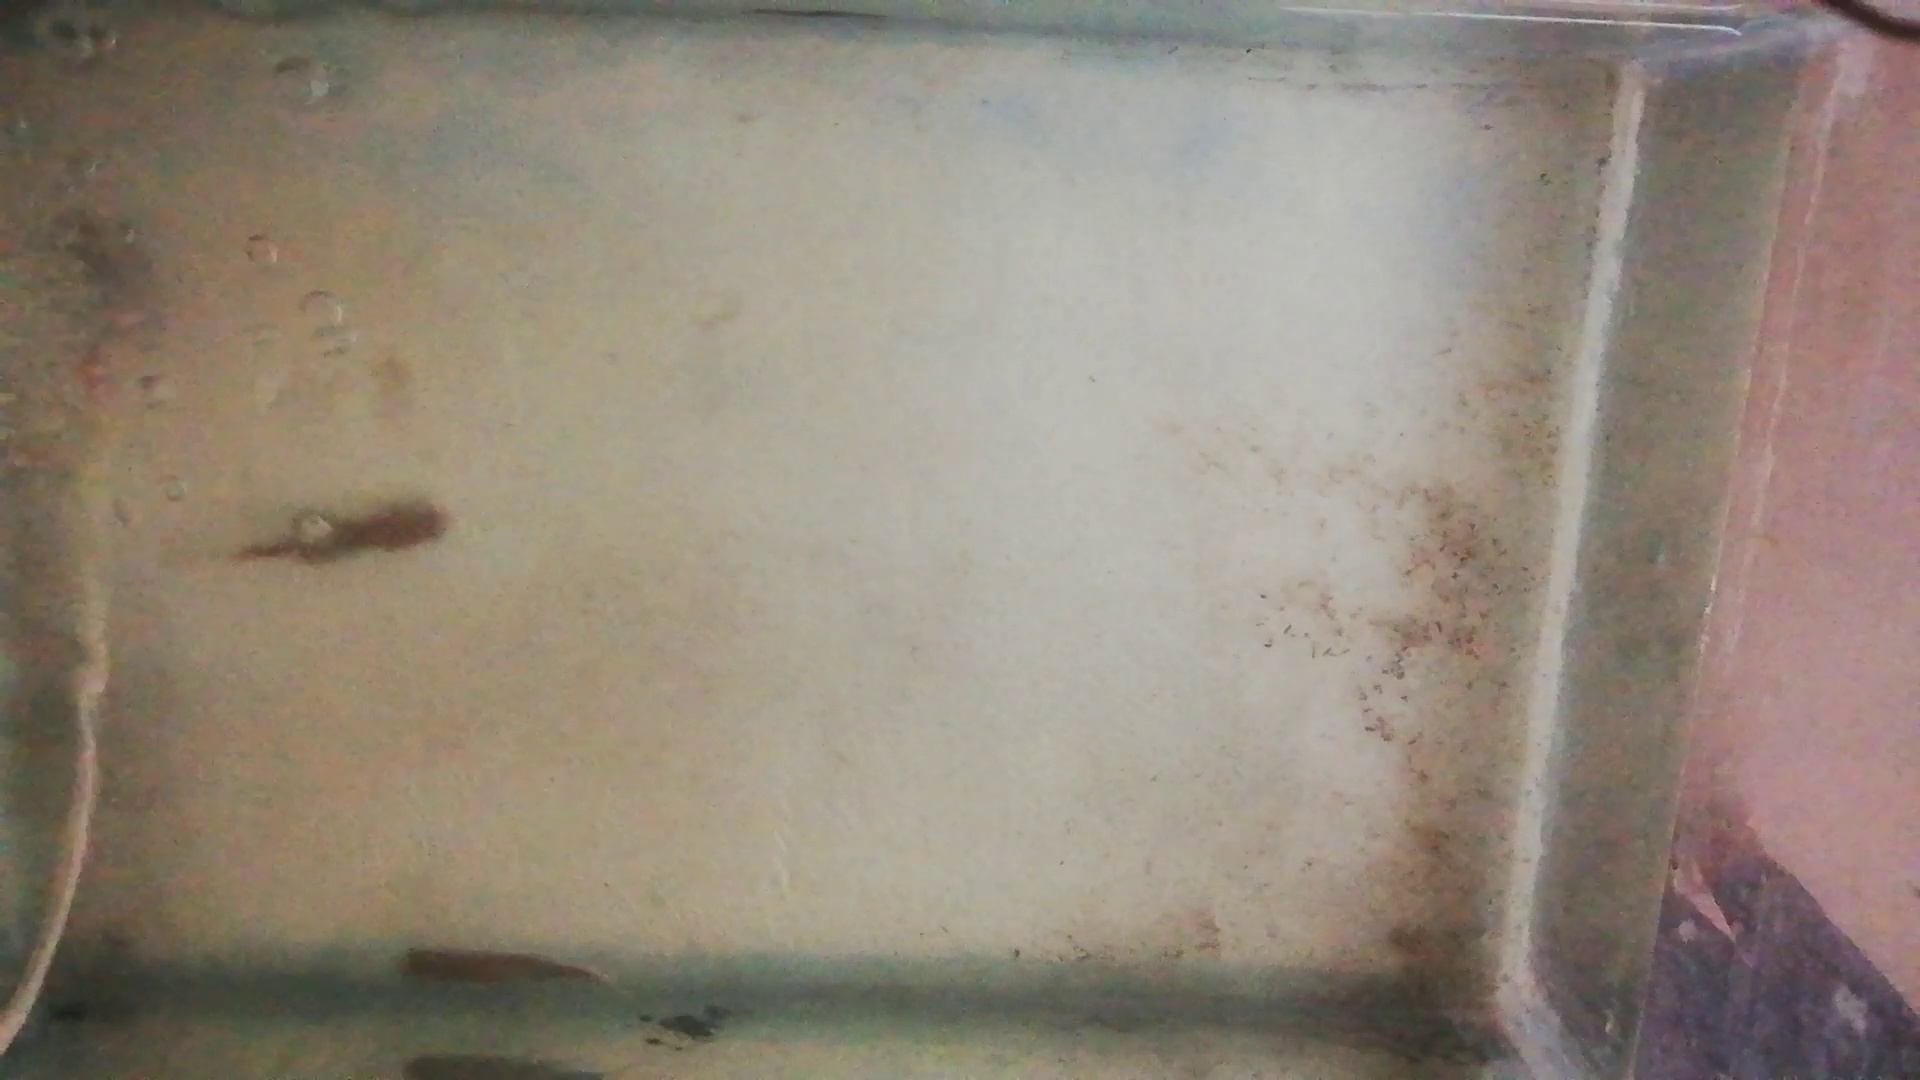fish: (229, 498, 448, 563), (398, 949, 607, 992)
